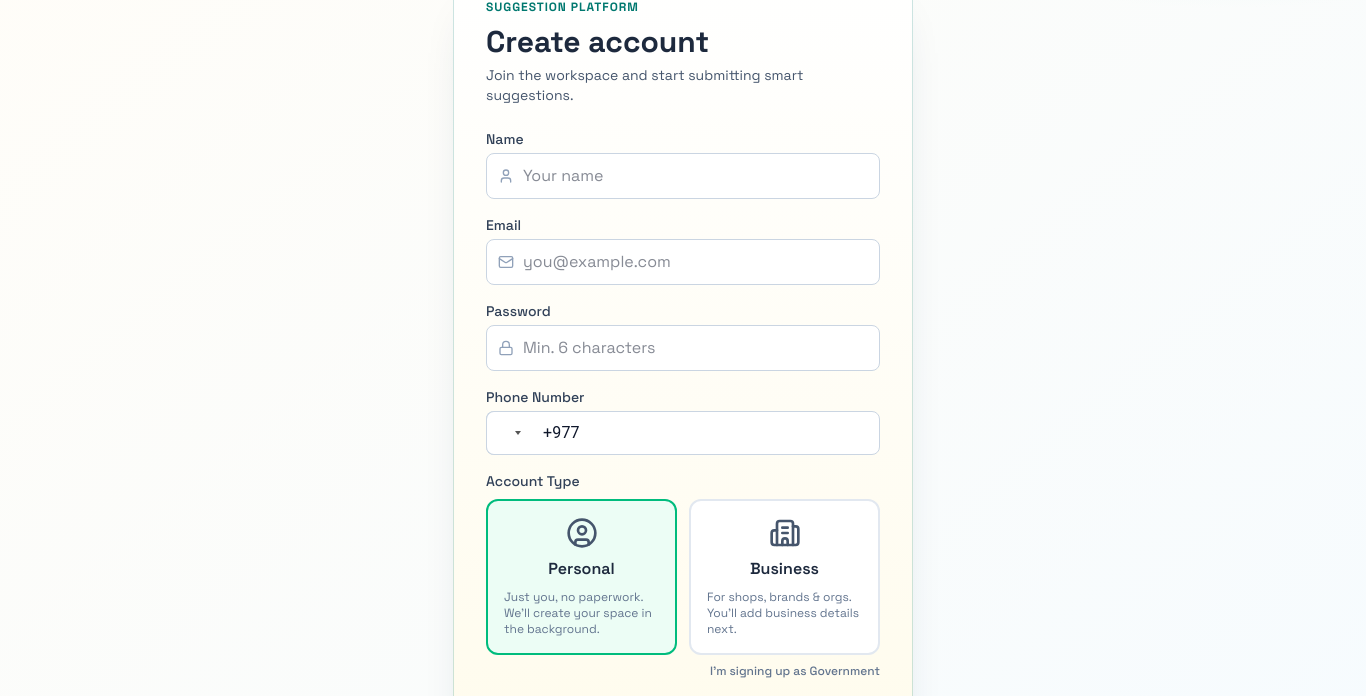
Test case: Signup Component › switching to Personal hides business fields and shows avatar picker
Click the button "Business": (784, 576) [689,498,880,654]
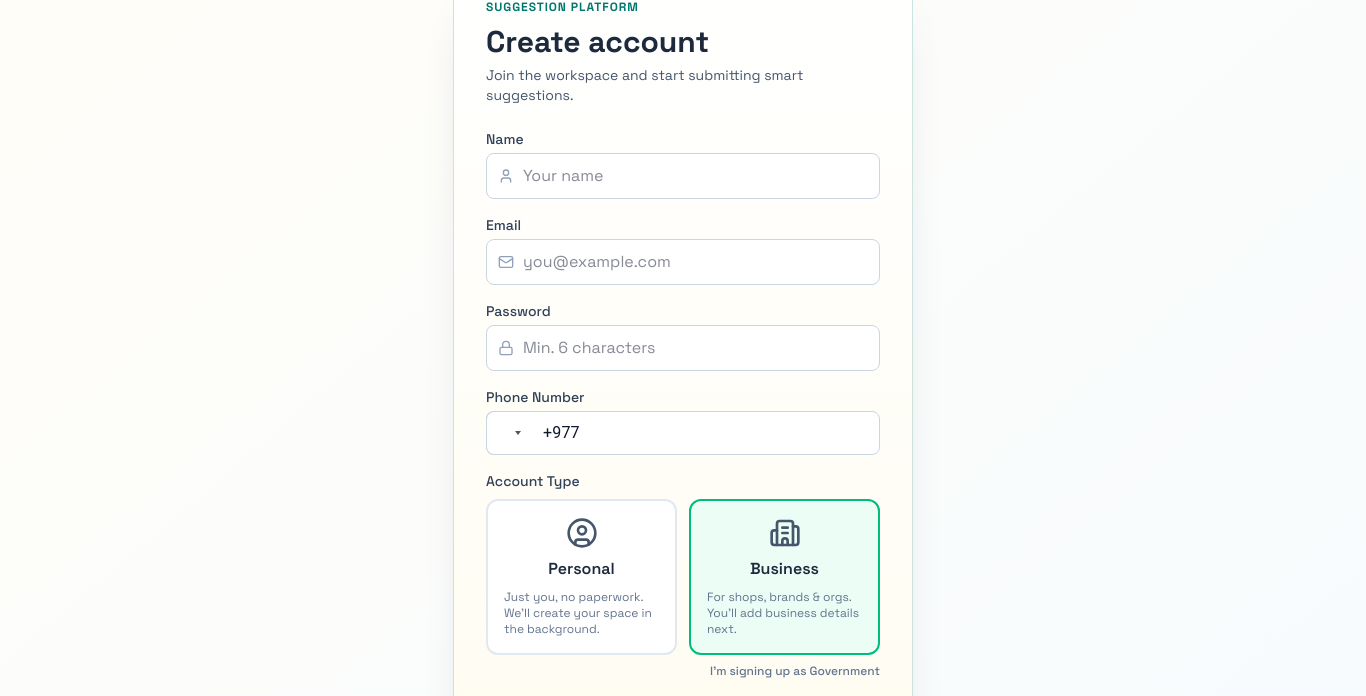
Click the button "Personal": (582, 576) [486,498,677,654]
(page scrolled)
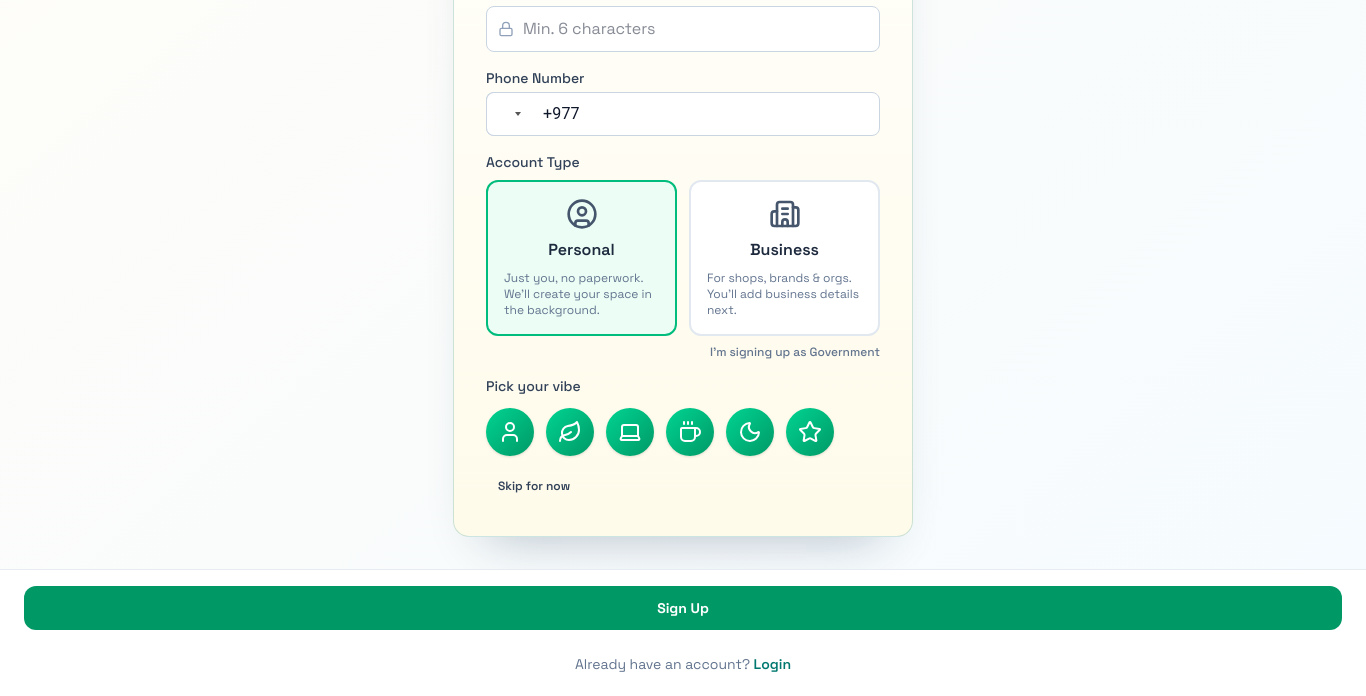
Check: the text "Pick your vibe" is shown, box [486,376,581,394]
